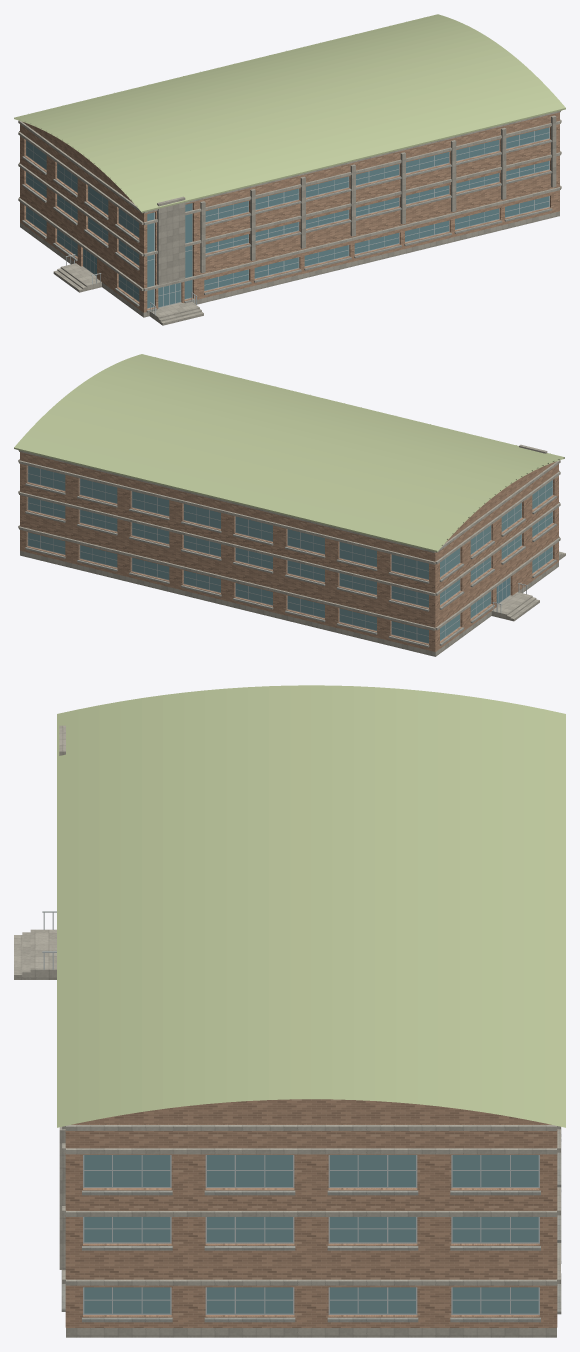
3 renders of one model, top to bottom at view 1: azimuth 30°, elevation 25°; view 2: azimuth 150°, elevation 25°; view 3: azimuth 270°, elevation 25°, orthographic. The views are drawn at different scales.
Parts seen in each view (by area): view 1: hall__roofGreen, hall__brick, hall__stone, hall__glass, hall__frame, hall__sill, hall__sideglass, hall__stair-front, hall__stair-north, hall__threshold-north; view 2: hall__roofGreen, hall__brick, hall__sideglass, hall__stone, hall__frame, hall__sill, hall__stair-north, hall__threshold-north; view 3: hall__roofGreen, hall__brick, hall__sideglass, hall__stone, hall__sill, hall__frame, hall__stair-front, hall__threshold-front.
Boxes of the visible parts, x1=… form: hall__roofGreen: x1=14, y1=14, x2=565, y2=212; hall__brick: x1=20, y1=112, x2=559, y2=312; hall__stone: x1=18, y1=110, x2=561, y2=317; hall__glass: x1=83, y1=127, x2=549, y2=308; hall__frame: x1=26, y1=127, x2=549, y2=314; hall__sill: x1=22, y1=140, x2=552, y2=312; hall__sideglass: x1=26, y1=140, x2=139, y2=301; hall__stair-front: x1=156, y1=306, x2=203, y2=325; hall__stair-north: x1=53, y1=266, x2=90, y2=292; hall__threshold-north: x1=65, y1=263, x2=101, y2=289; hall__roofGreen: x1=14, y1=354, x2=564, y2=551; hall__brick: x1=20, y1=452, x2=558, y2=651; hall__sideglass: x1=28, y1=466, x2=552, y2=642; hall__stone: x1=18, y1=444, x2=560, y2=656; hall__frame: x1=27, y1=466, x2=552, y2=643; hall__sill: x1=25, y1=483, x2=556, y2=647; hall__stair-north: x1=503, y1=595, x2=539, y2=621; hall__threshold-north: x1=491, y1=592, x2=528, y2=618; hall__roofGreen: x1=57, y1=685, x2=565, y2=1127; hall__brick: x1=65, y1=1099, x2=557, y2=1327; hall__sideglass: x1=84, y1=1155, x2=538, y2=1313; hall__stone: x1=59, y1=725, x2=560, y2=1337; hall__sill: x1=61, y1=1127, x2=561, y2=1322; hall__frame: x1=42, y1=911, x2=539, y2=1314; hall__stair-front: x1=14, y1=929, x2=38, y2=979; hall__threshold-front: x1=39, y1=929, x2=56, y2=979.
Size of the model in its own units: 51.48 by 13.74 by 27.98.
Materials: 8 (4 with a texture image).
